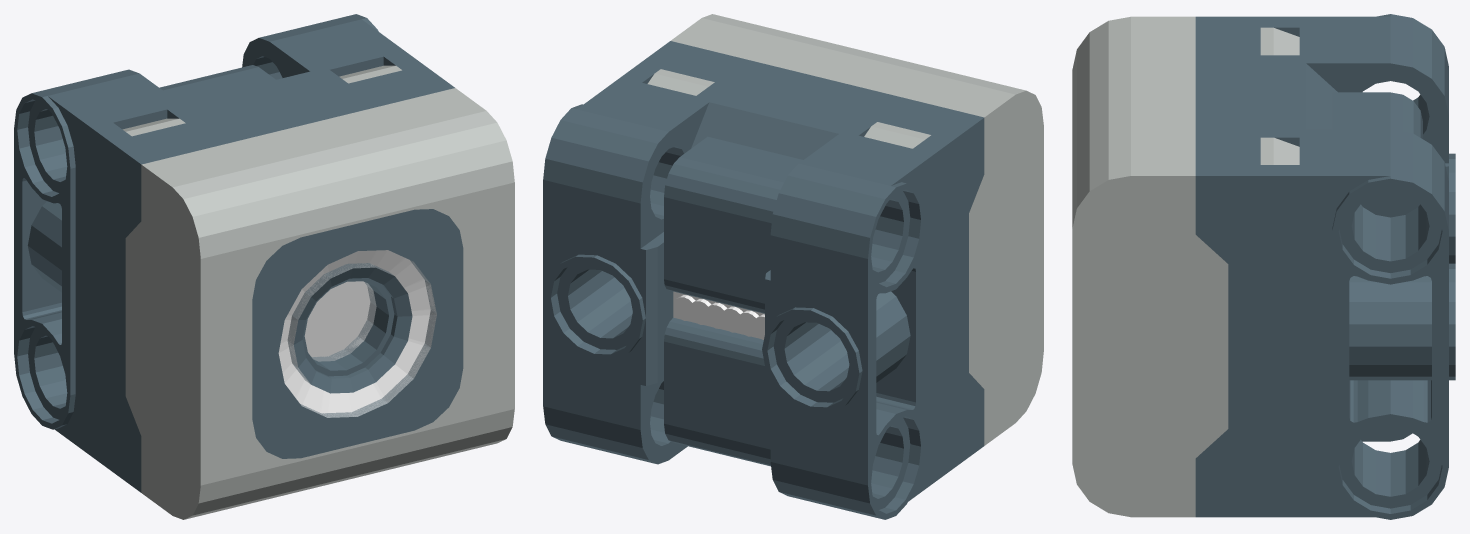
File: color_sensor.dae
3 views of the same model, side by side, from view 1: azimuth 30°, elevation 25°; view 2: azimuth 150°, elevation 25°; view 3: azimuth 270°, elevation 25° (orthographic). The views are drawn at different scales.
Visible parts, largest first — view 1: m_000121; view 2: m_000121; view 3: m_000121.
Part boxes in pixels (x1,y1,x2,y2): m_000121: (14,14,514,519); m_000121: (543,14,1043,519); m_000121: (1072,14,1455,519).
Size of what is drawn, in the model's own units: 0.0595 by 0.0585 by 0.0575.
